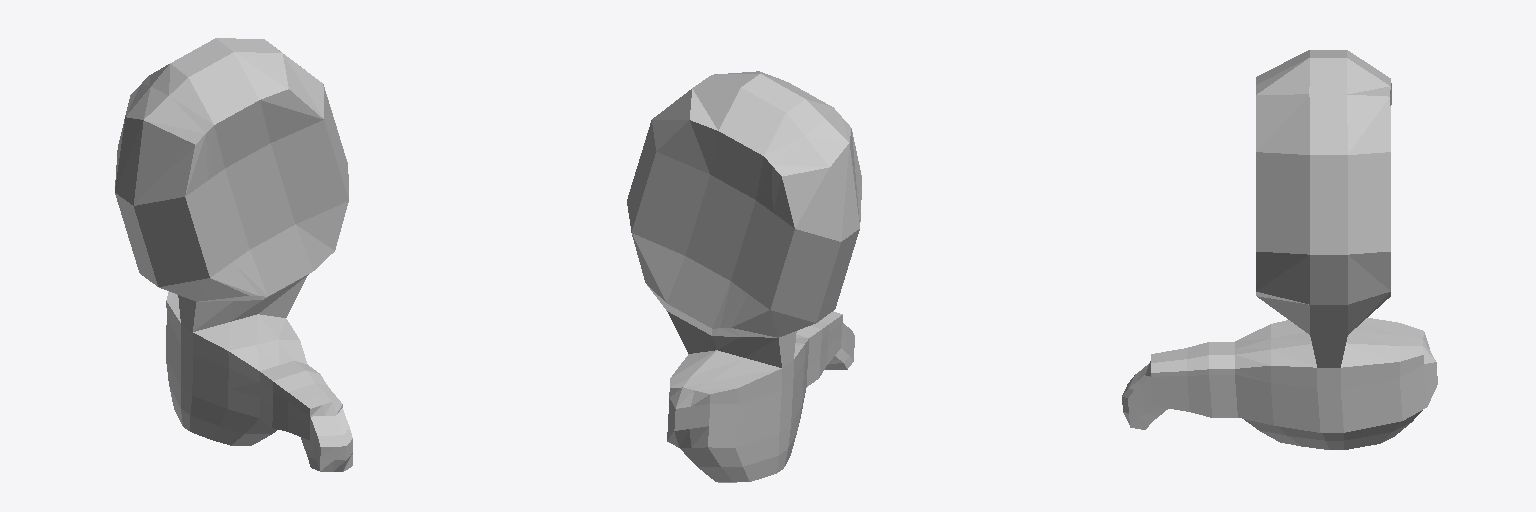
Rendered from HEAD.obj.
The picture shows the model from 3 angles: view 1: azimuth 30°, elevation 25°; view 2: azimuth 150°, elevation 25°; view 3: azimuth 270°, elevation 25°; orthographic projection.
Visible parts, largest first — view 1: Cube.007; view 2: Cube.007; view 3: Cube.007.
Boxes of the visible parts, x1=… form: Cube.007: x1=115, y1=38, x2=352, y2=471; Cube.007: x1=627, y1=71, x2=861, y2=482; Cube.007: x1=1122, y1=50, x2=1437, y2=449.
Bounding box in the file's own units: 9.21 × 15.97 × 11.74.